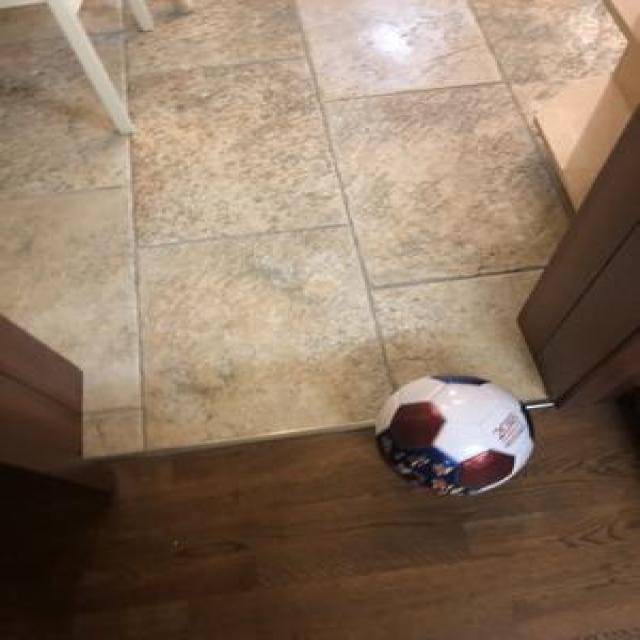Soccer Ball: (369, 371, 533, 498)
